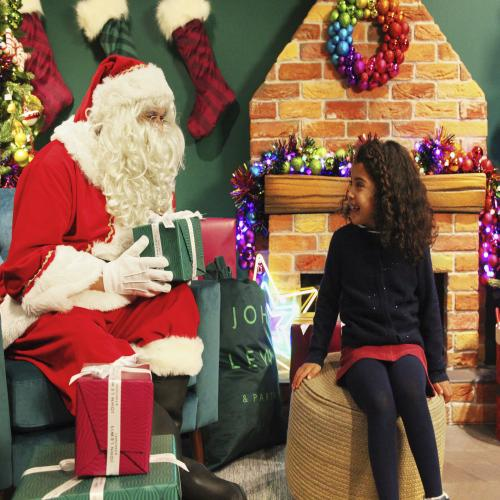Santa: (5, 50, 249, 500)
